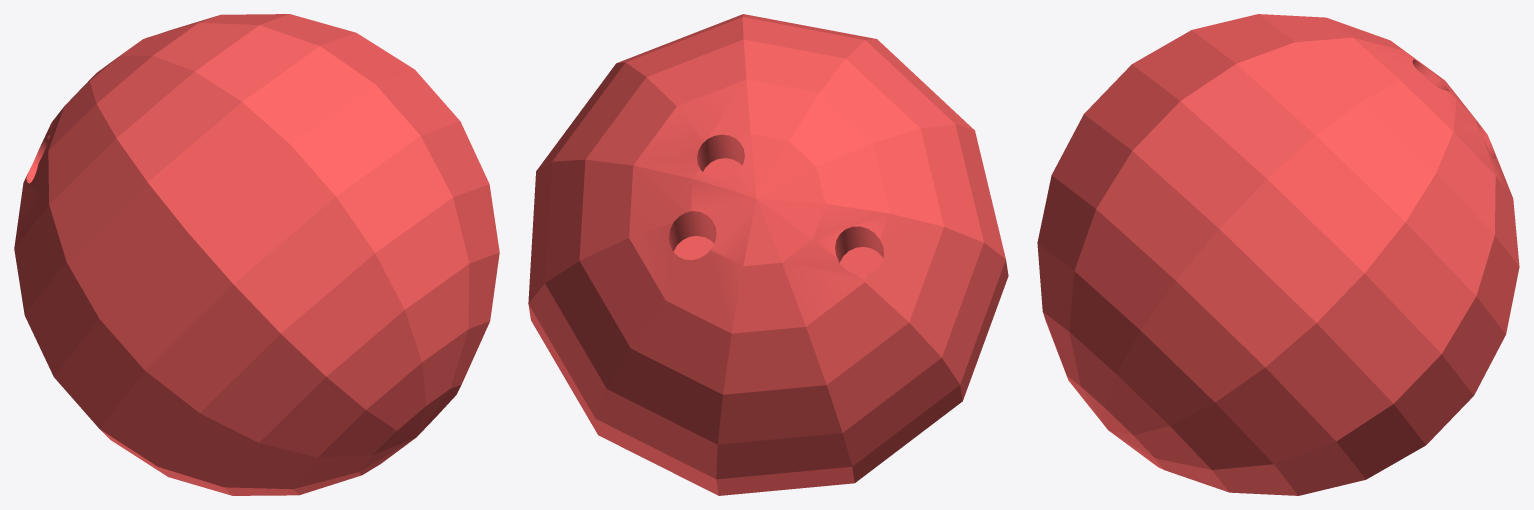
The model's file is Bowling_Ball.fbx.
3 renders of one model, left to right at view 1: azimuth 30°, elevation 25°; view 2: azimuth 150°, elevation 25°; view 3: azimuth 270°, elevation 25°, orthographic.
Visible parts, largest first — view 1: Bowling_Ball; view 2: Bowling_Ball; view 3: Bowling_Ball.
Part boxes in pixels (box(x1,y1,x2,y2)): Bowling_Ball: box(14, 14, 499, 495); Bowling_Ball: box(528, 14, 1008, 495); Bowling_Ball: box(1037, 14, 1519, 495).
Bounding box in the file's own units: 120 × 121 × 121.
